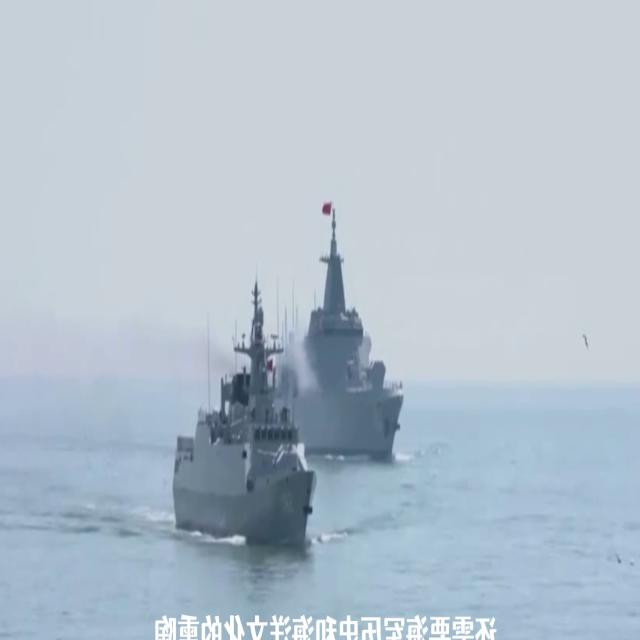navalvessels: (172, 278, 310, 548), (276, 195, 404, 451)
